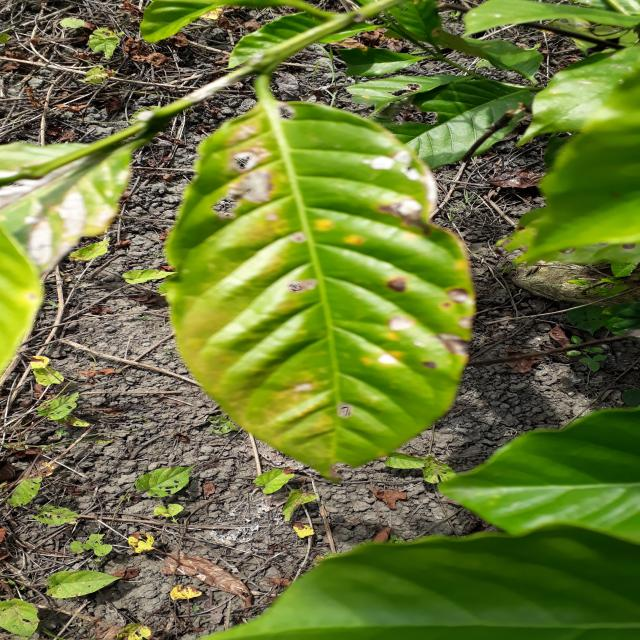Enfermedad-Roya: (158, 80, 475, 475)
